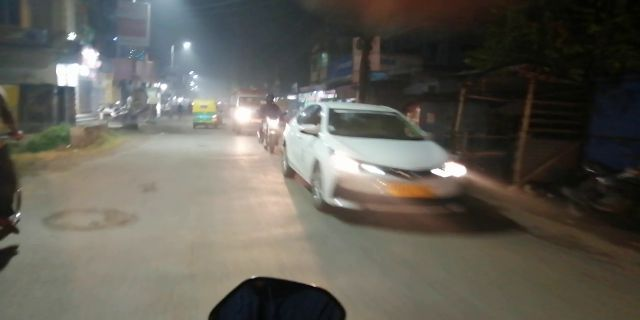Autorickshaw: (190, 99, 222, 129)
Car: (286, 88, 469, 226)
